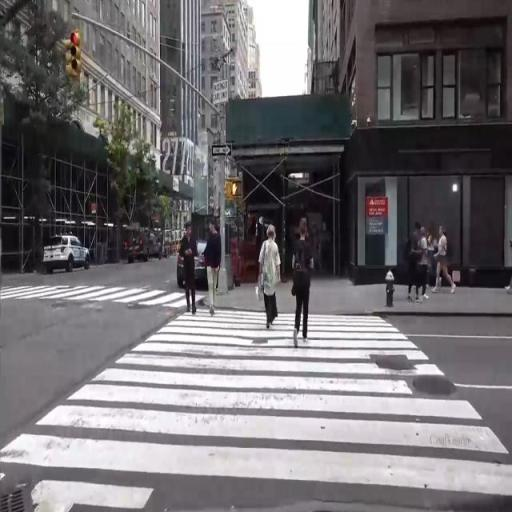person: (291, 224, 317, 353), (177, 221, 201, 315), (203, 222, 222, 322), (261, 228, 279, 328), (436, 231, 457, 301), (410, 224, 419, 305), (431, 229, 440, 300), (422, 229, 430, 306)
